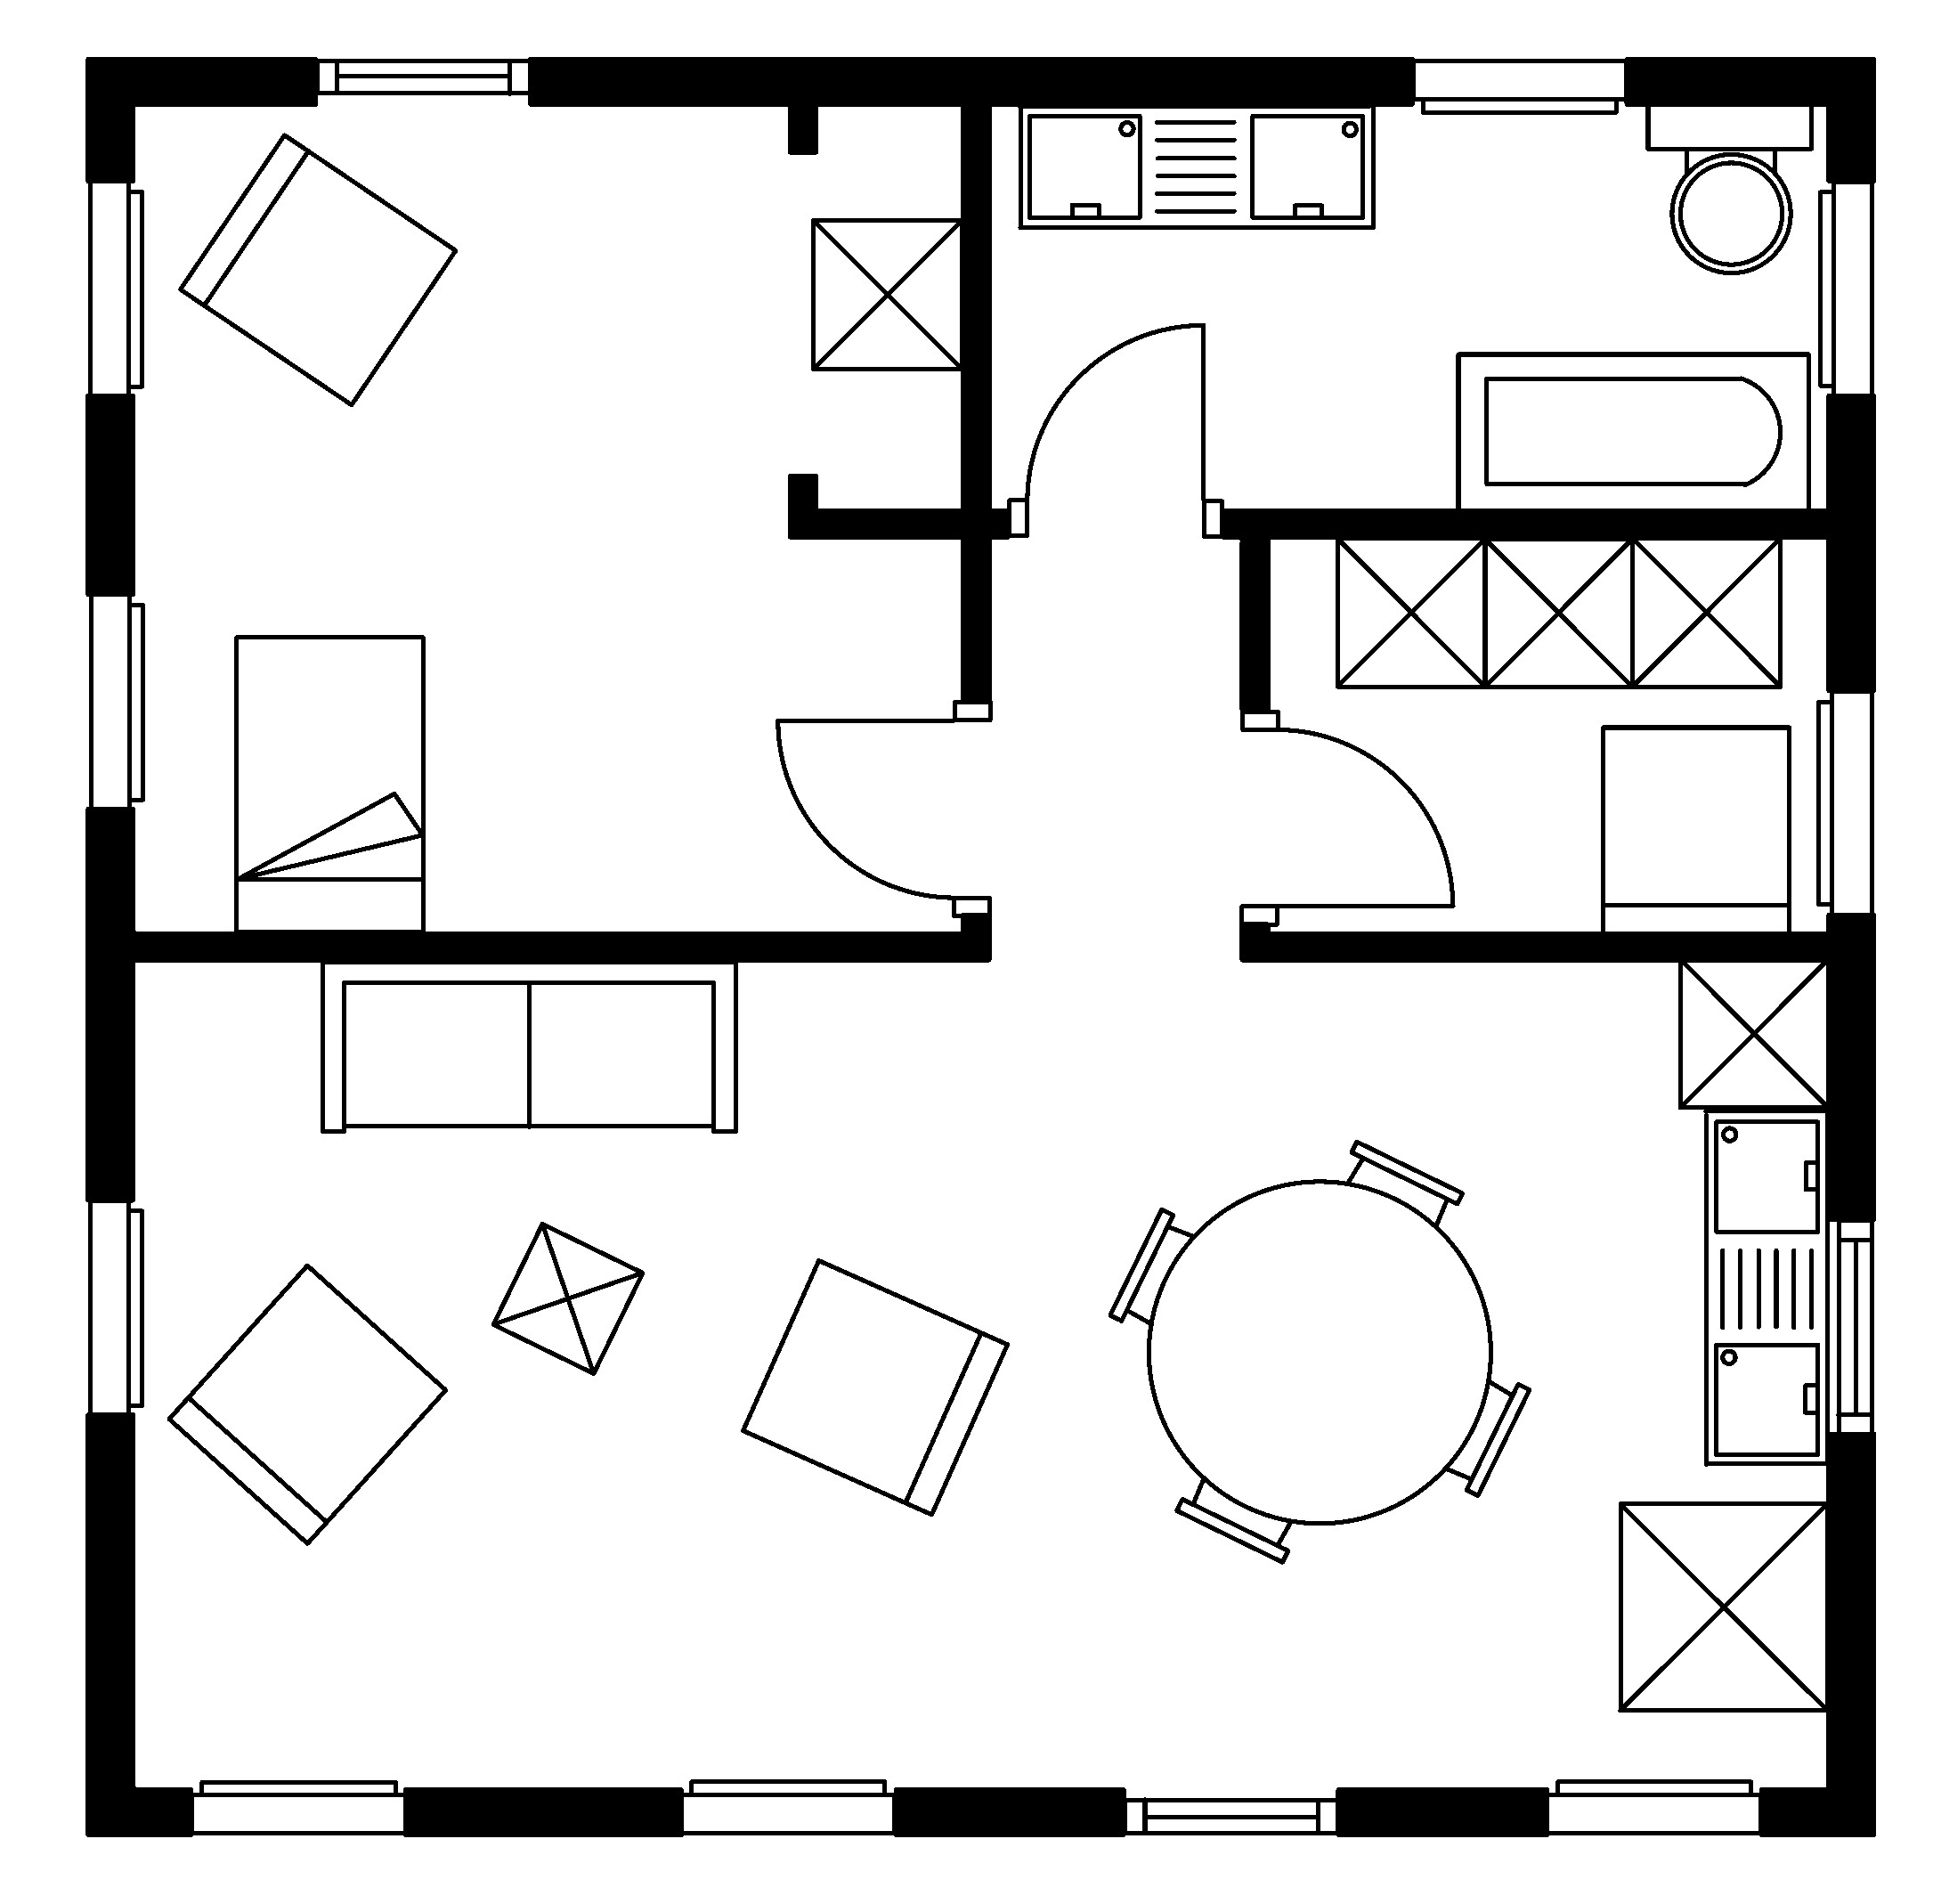bed: (232, 633, 427, 935)
coffee_table: (1616, 1499, 1830, 1714), (809, 216, 966, 371), (488, 1221, 645, 1376), (1480, 534, 1635, 689), (1628, 534, 1783, 689), (1333, 534, 1489, 689), (1675, 955, 1830, 1111)
large_sink: (1644, 101, 1814, 274)
large_sofa: (319, 959, 737, 1135)
round_table: (1105, 1139, 1532, 1564)
small_sofa: (166, 1262, 448, 1547), (176, 131, 458, 408), (739, 1257, 1009, 1517), (1598, 724, 1792, 936)
tub: (1454, 350, 1811, 513)
twin_sink: (1014, 101, 1375, 230), (1701, 1107, 1830, 1468)
